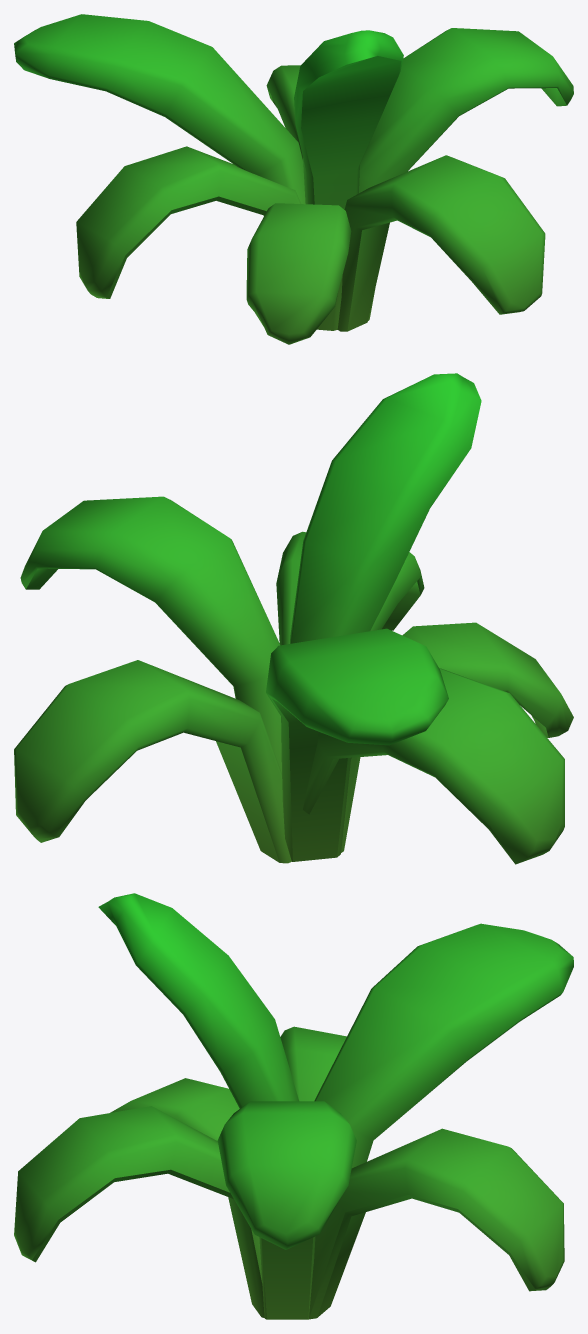
The model's file is tree01.FBX.
The picture shows the model from 3 angles, top to bottom: view 1: azimuth 30°, elevation 25°; view 2: azimuth 150°, elevation 25°; view 3: azimuth 270°, elevation 25°; orthographic projection. The views are drawn at different scales.
Visible parts, largest first — view 1: obj_06; view 2: obj_06; view 3: obj_06.
Boxes of the visible parts, <box> form: obj_06: <box>14,14,573,344</box>; obj_06: <box>14,373,573,864</box>; obj_06: <box>14,893,573,1319</box>.
Bounding box in the file's own units: 29.54 × 21.47 × 28.24.
